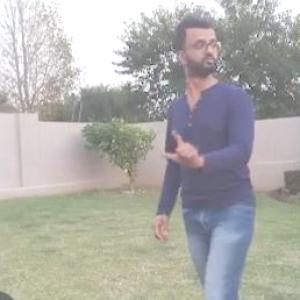land_hand: (158, 116, 201, 174)
